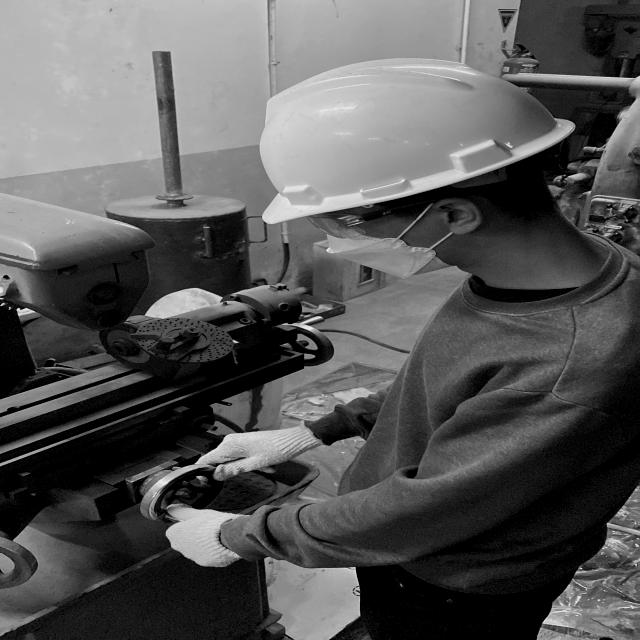glasses: (302, 196, 432, 240)
hand_glove: (145, 497, 254, 583), (189, 416, 325, 479)
head_helmet: (255, 52, 570, 220)
person: (155, 54, 640, 640)
